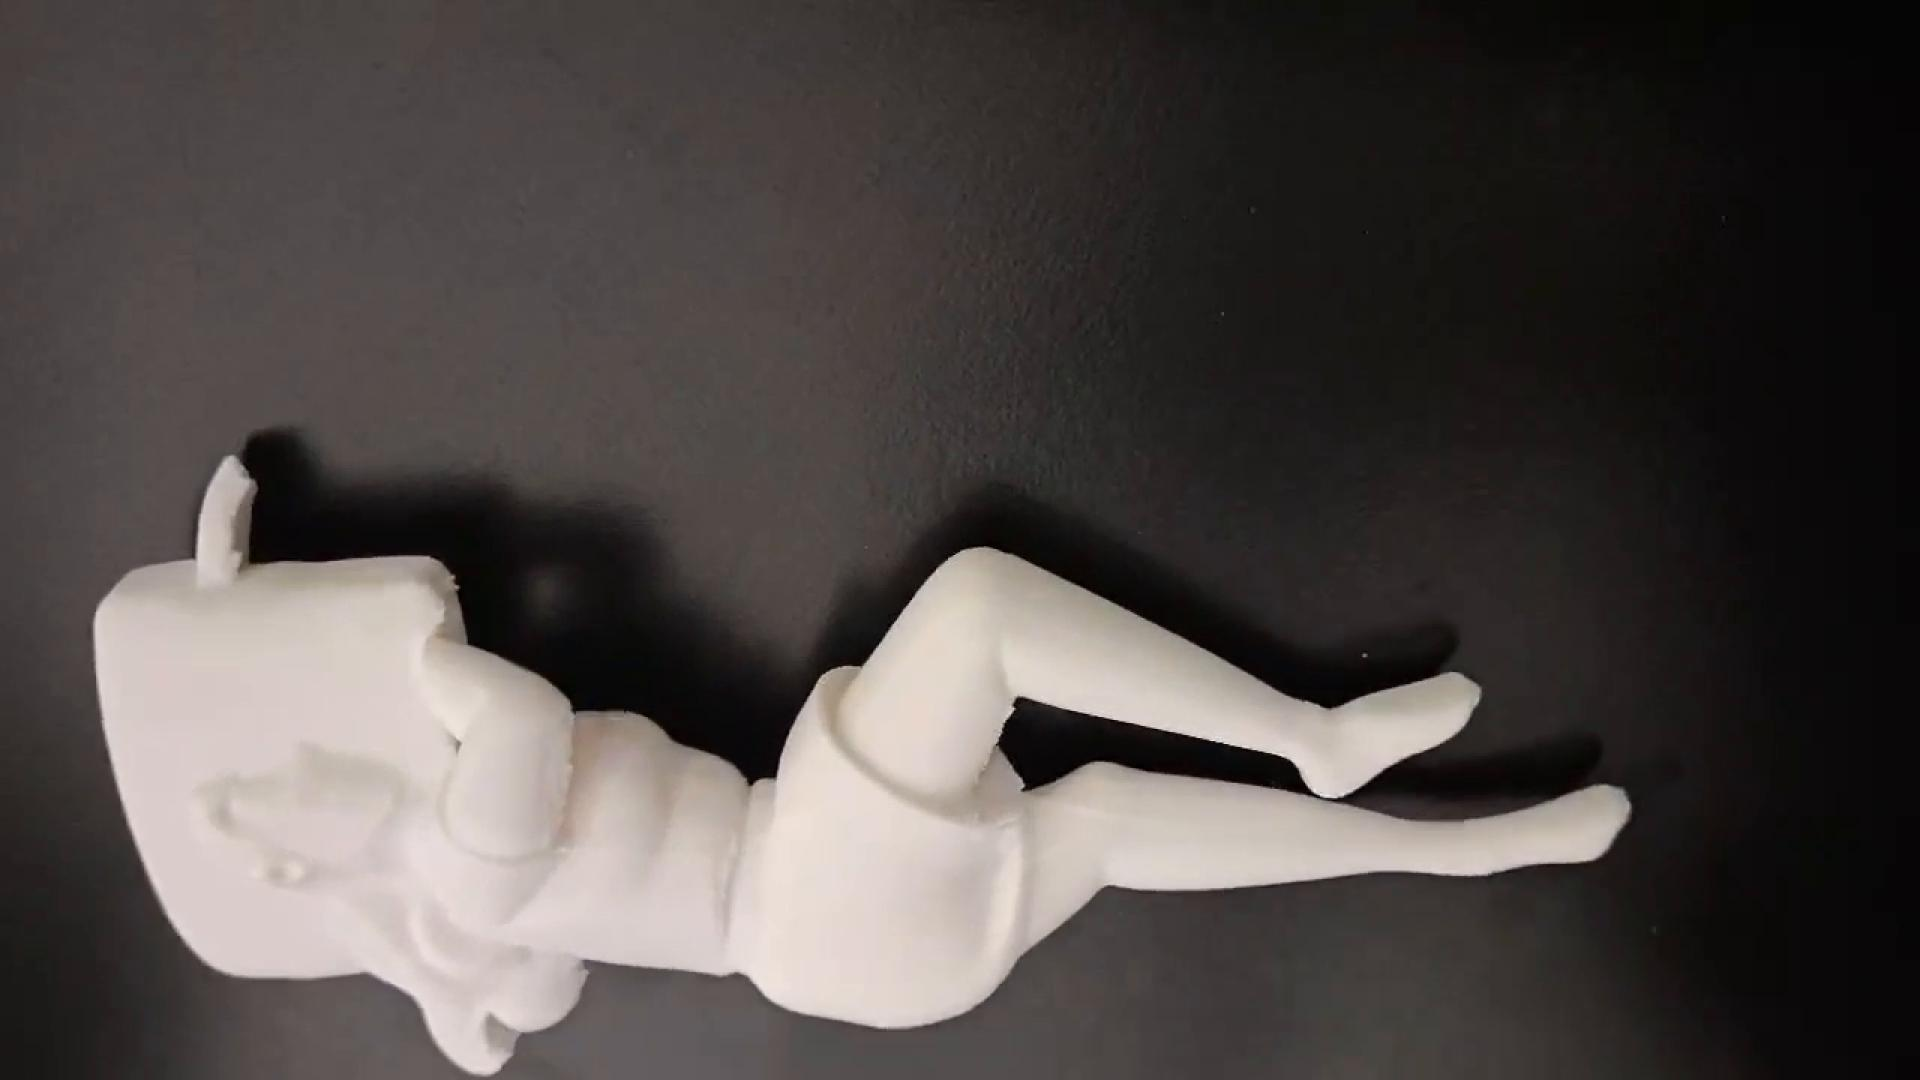Good-style: (87, 451, 1631, 1079)
